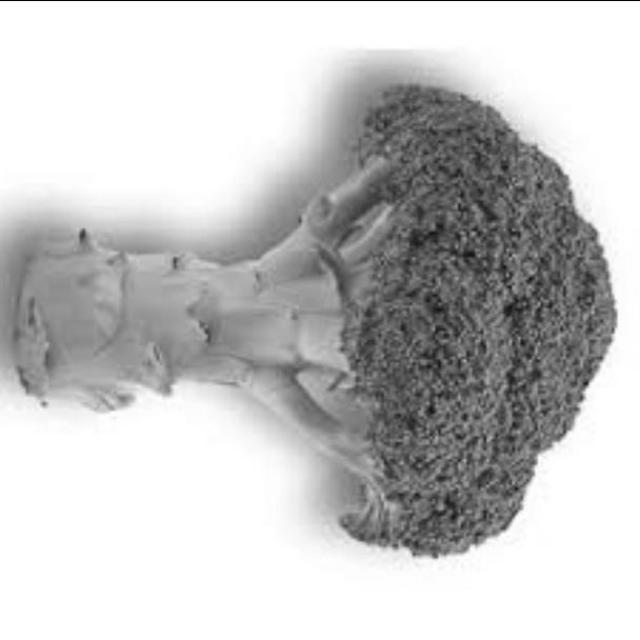bong cai xanh: (3, 62, 624, 563)
